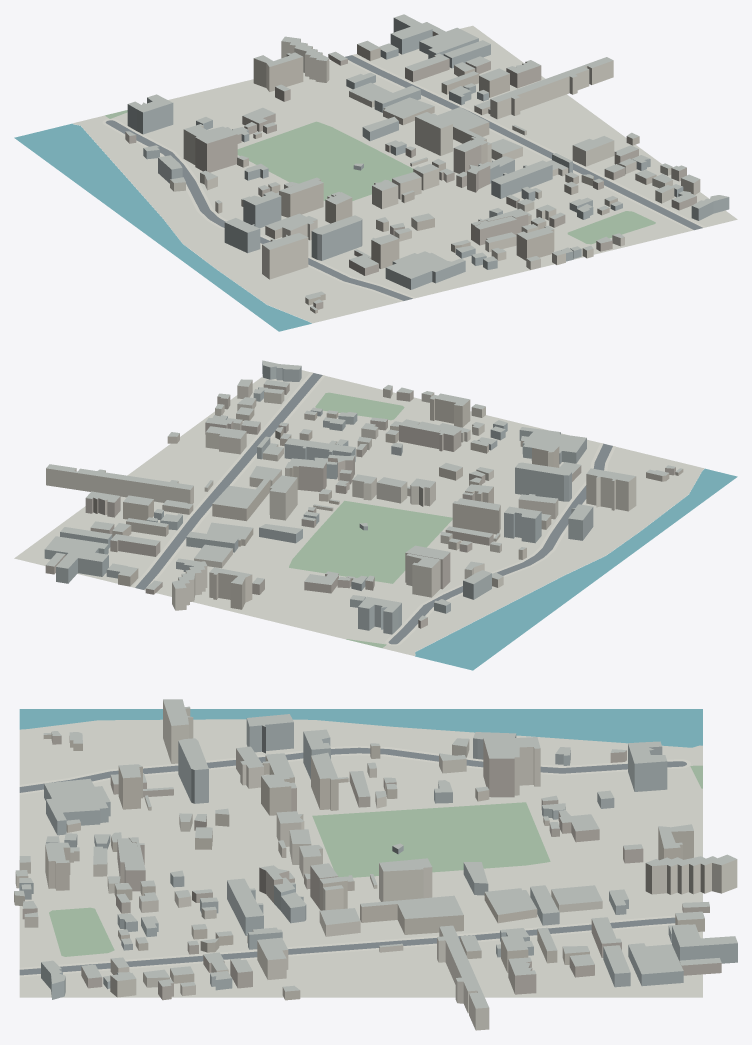
3 views of the same model, one above another, from view 1: azimuth 30°, elevation 25°; view 2: azimuth 150°, elevation 25°; view 3: azimuth 270°, elevation 25° (orthographic). The views are drawn at different scales.
Visible parts, largest first — view 1: city; view 2: city; view 3: city.
Boxes of the visible parts, x1=… form: city: x1=14, y1=14, x2=737, y2=331; city: x1=14, y1=360, x2=737, y2=670; city: x1=14, y1=699, x2=737, y2=1030.
Size of the model in its own units: 557 by 31.28 by 530.
